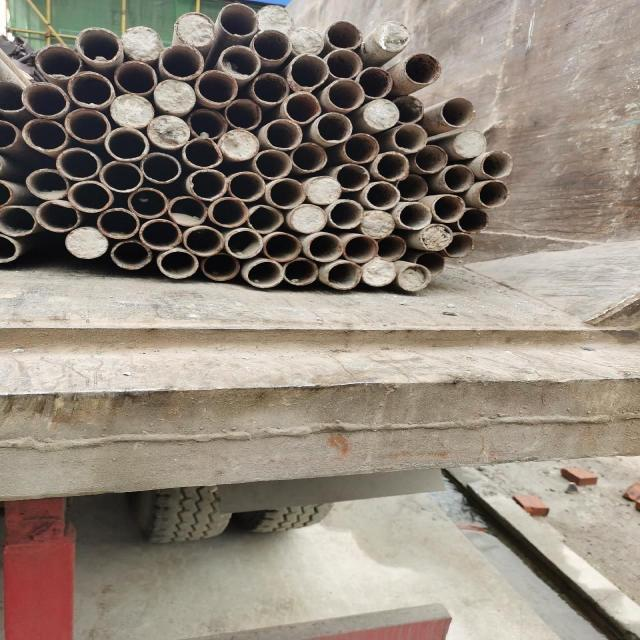pipe: (67, 70, 114, 108), (21, 81, 68, 117), (159, 43, 203, 80), (76, 27, 121, 63), (21, 117, 68, 151), (119, 26, 163, 62), (109, 92, 153, 128), (34, 44, 80, 78), (54, 146, 100, 180), (173, 11, 215, 48), (65, 107, 109, 142), (114, 60, 158, 95), (104, 127, 148, 162), (218, 44, 260, 80), (194, 70, 237, 104), (63, 226, 108, 258), (68, 180, 113, 212), (288, 53, 328, 89), (153, 78, 195, 112), (148, 114, 190, 148), (34, 200, 81, 230), (26, 168, 70, 200), (180, 136, 223, 168), (219, 2, 259, 36), (282, 90, 322, 124), (325, 76, 365, 110), (100, 160, 142, 192), (139, 152, 181, 184), (126, 187, 168, 219), (185, 168, 227, 200), (157, 249, 200, 280), (166, 194, 206, 227), (97, 207, 138, 239), (251, 29, 292, 61), (356, 66, 394, 100), (314, 111, 352, 145), (254, 3, 293, 36), (372, 20, 412, 52), (219, 128, 259, 160), (140, 220, 182, 250), (198, 252, 240, 282), (250, 72, 289, 104), (263, 118, 302, 150), (110, 239, 151, 269), (403, 52, 440, 85), (188, 108, 226, 140), (266, 178, 305, 209), (182, 226, 222, 256), (208, 197, 248, 227), (285, 26, 323, 57), (252, 149, 291, 179), (0, 205, 36, 237), (226, 97, 262, 129), (225, 228, 263, 258), (326, 20, 364, 50), (324, 48, 362, 78), (228, 172, 265, 202), (289, 203, 326, 233), (342, 133, 379, 163), (371, 151, 408, 181), (245, 260, 284, 288), (307, 232, 343, 262), (327, 200, 363, 230), (290, 142, 327, 171), (262, 233, 300, 261), (363, 98, 398, 128), (305, 174, 340, 204), (362, 180, 398, 209), (245, 205, 282, 233), (324, 261, 361, 289), (359, 258, 396, 286), (390, 94, 424, 124), (440, 97, 474, 127), (392, 123, 427, 152), (359, 210, 393, 239), (453, 130, 487, 159), (396, 201, 431, 229), (454, 206, 489, 234), (334, 162, 369, 190), (413, 144, 448, 172), (343, 234, 377, 262), (430, 194, 464, 222), (282, 258, 318, 284), (420, 222, 452, 251), (441, 231, 474, 259), (0, 79, 27, 113), (477, 180, 509, 208), (396, 264, 430, 290), (480, 150, 511, 178), (442, 164, 473, 192), (375, 233, 405, 261), (396, 174, 428, 200), (414, 251, 445, 277), (0, 119, 19, 151), (0, 233, 20, 263), (0, 180, 12, 206)
